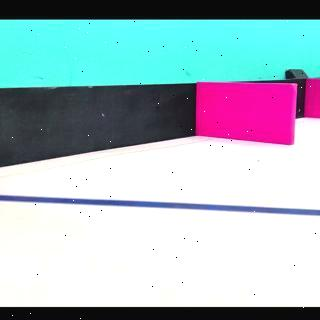xparking: (204, 87, 292, 143), (310, 84, 316, 120)
